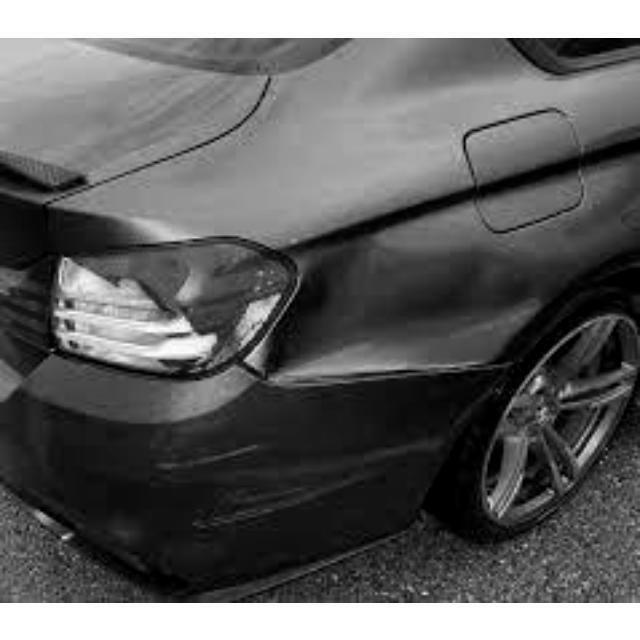Taillight-Damage: (1, 222, 322, 374)
quaterpanel-dent: (349, 86, 638, 369)
rear-bumper-dent: (0, 354, 476, 589)
